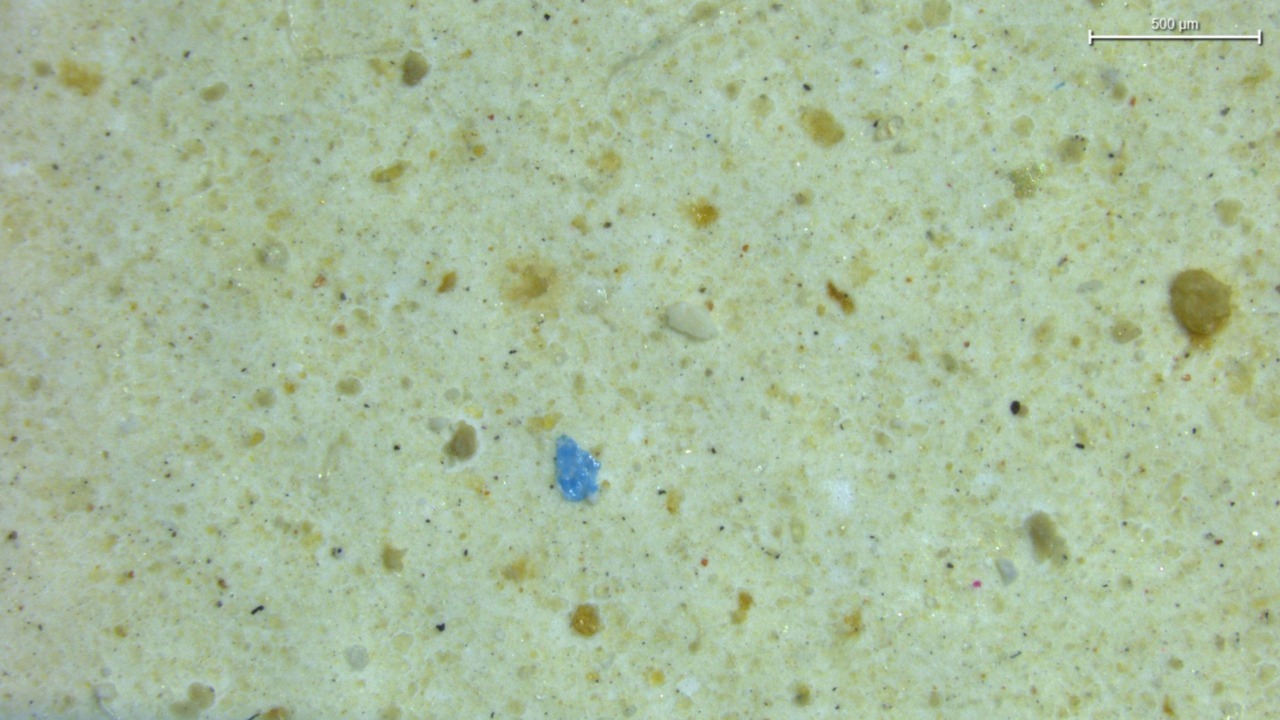microplastic_fragment: (1170, 269, 1232, 341), (555, 435, 600, 501), (665, 302, 717, 339)
